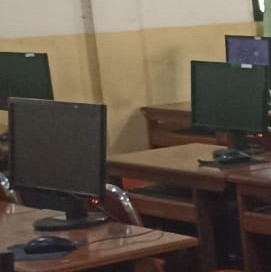monitor: (8, 97, 108, 209), (190, 60, 268, 134), (0, 52, 54, 110), (224, 34, 271, 67)
